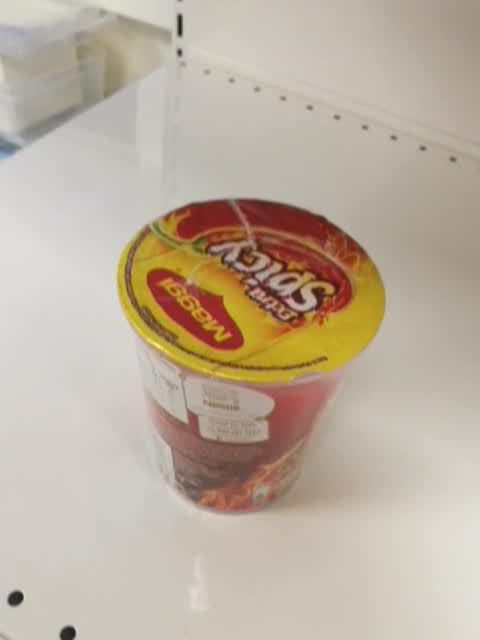maggi: (117, 198, 387, 517)
